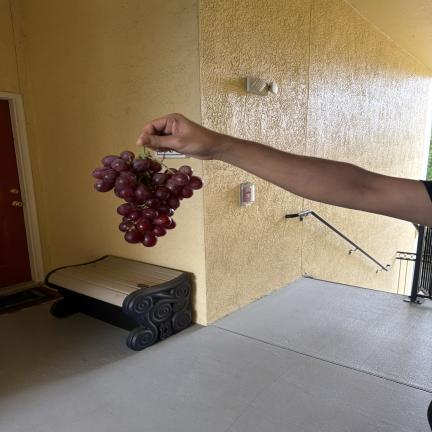grape_cluster: (92, 146, 204, 247)
